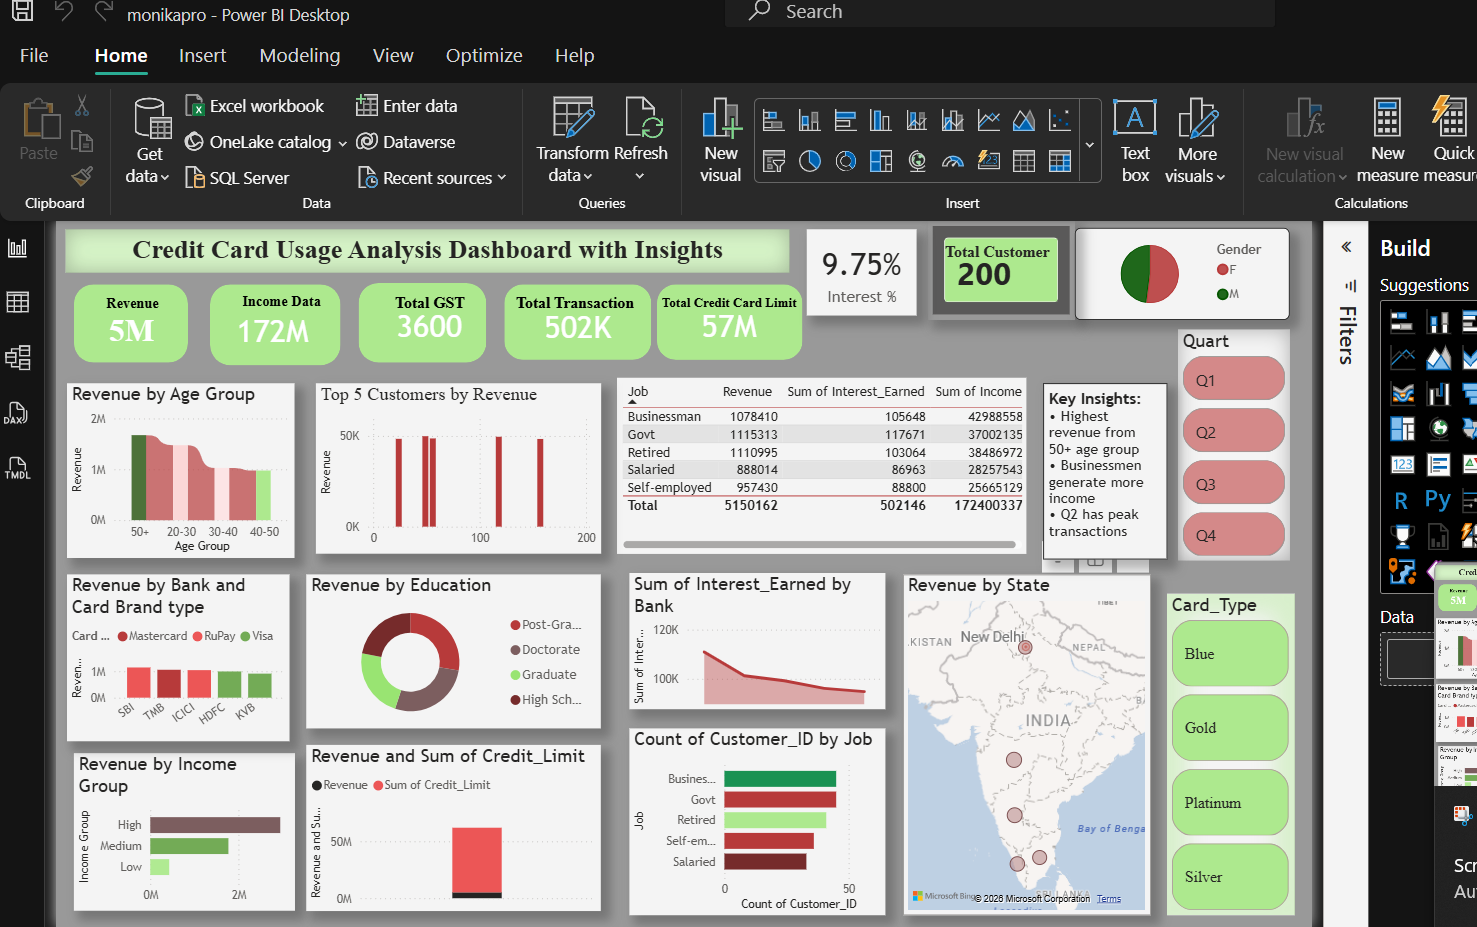

The dashboard page shown, as its layout file describes it:
{"tool":"powerbi","page":{"name":"Page 1","canvas":[1280,720],"ordinal":0},"visuals":[{"type":"shape","box":[18.2,64.5,116.4,79.9],"z":0},{"type":"shape","box":[612.7,64.5,148.6,77.1],"z":1000},{"type":"pieChart","fields":{"Category":["CreditCardData.Gender"],"Y":["CountNonNull(CreditCardData.Customer_ID)"]},"box":[1039.4,6.8,218.8,94],"z":2000},{"type":"shape","box":[308.5,63.1,130.4,81.3],"z":3000},{"type":"shape","box":[457.1,64.5,150,77.1],"z":4000},{"type":"shape","box":[157,64.5,133.2,82.7],"z":5000},{"type":"card","fields":{"Values":["CreditCardData.Revenue"]},"box":[33.6,84.1,86.9,53.3],"z":6000},{"type":"card","fields":{"Values":["CreditCardData.Total Interest"]},"box":[464.1,74.3,136,65.9],"z":7000},{"type":"card","fields":{"Values":["CreditCardData.Income Data"]},"box":[165.4,88.3,110.8,46.3],"z":8000},{"type":"textbox","box":[10.3,8.5,738.5,44.4],"z":9000},{"type":"textbox","box":[46.3,70.1,109.4,44.9],"z":10000},{"type":"textbox","box":[185.1,68.7,105.2,30.8],"z":11000},{"type":"textbox","box":[340.7,68.7,98.1,43.5],"z":12000},{"type":"textbox","box":[464.1,68.7,148.6,39.3],"z":13000},{"type":"ribbonChart","fields":{"Category":["CreditCardData.Age Group"],"Y":["CreditCardData.Revenue"]},"box":[11.7,165,231.7,178.3],"z":14000},{"type":"clusteredBarChart","fields":{"Category":["CreditCardData.Income Group"],"Y":["CreditCardData.Revenue"]},"box":[18.8,541.9,225.7,160.7],"z":15000},{"type":"tableEx","fields":{"Values":["CreditCardData.Job","CreditCardData.Revenue","Sum(CreditCardData.Interest_Earned)","Sum(CreditCardData.Income)"]},"box":[572,159.8,417.8,179.5],"z":16000},{"type":"columnChart","fields":{"Category":["CreditCardData.Bank"],"Y":["CreditCardData.Revenue"],"Series":["CreditCardData.Card Brand type"]},"box":[11.7,360,226.7,170],"z":17000},{"type":"donutChart","fields":{"Category":["CreditCardData.Education"],"Y":["CreditCardData.Revenue"]},"box":[255.2,360.3,300,157],"z":18000},{"type":"map","title":"Revenue by State","fields":{"Category":["CreditCardData.State"],"Size":["CreditCardData.Revenue"]},"box":[863.7,360.3,252.4,347.7],"z":19000},{"type":"columnChart","fields":{"Y":["CreditCardData.Revenue","Sum(CreditCardData.Credit_Limit)"]},"box":[255.2,534.2,300,169.6],"z":20000},{"type":"advancedSlicerVisual","title":"Quart","fields":{"Values":["CreditCardData.Quarter"]},"box":[1143.7,111.1,114.5,235.9],"z":21000},{"type":"advancedSlicerVisual","fields":{"Values":["CreditCardData.Card_Type"]},"box":[1133.5,379.5,129.9,328.2],"z":22000},{"type":"cardVisual","fields":{"Data":["CountNonNull(CreditCardData.Customer_ID)"]},"box":[888.9,0,150,100.9],"z":23000},{"type":"textbox","box":[901,17.1,124.8,44.4],"z":24000},{"type":"card","fields":{"Values":["Sum(CreditCardData.GST)"]},"box":[337.9,75.7,85.5,61.7],"z":25000},{"type":"clusteredBarChart","fields":{"Y":["CountNonNull(CreditCardData.Customer_ID)"],"Category":["CreditCardData.Job"]},"box":[584.7,517.4,260.8,190.7],"z":26000},{"type":"areaChart","fields":{"Category":["CreditCardData.Bank"],"Y":["Sum(CreditCardData.Interest_Earned)"]},"box":[584.7,358.9,260.8,138.8],"z":27000},{"type":"card","fields":{"Values":["Sum(CreditCardData.Credit_Limit)"]},"box":[633.7,74.3,105.2,64.5],"z":28000},{"type":"textbox","box":[612.7,70.1,158.4,43.5],"z":29000},{"type":"columnChart","title":"Top 5 Customers by Revenue","fields":{"Category":["CreditCardData.Customer_ID"],"Y":["CreditCardData.Revenue"]},"box":[264.5,165.3,290.9,174.1],"z":30000},{"type":"textbox","box":[1006.7,165.4,126.2,179.5],"z":31000},{"type":"card","fields":{"Values":["CreditCardData.Interest %"]},"box":[765.5,8.4,112.2,88.3],"z":32000}]}

Visuals, with their boxes on the page's 1280x720 design canvas (x1, y1, x2, y2). These are canvas units, not pixel positions in the 1477x927 screenshot, which may show the page scaled, cropped or inside an application window:
shape: {"left": 18, "top": 64, "right": 135, "bottom": 144}
shape: {"left": 613, "top": 64, "right": 761, "bottom": 142}
pieChart - CreditCardData.Gender x CountNonNull(CreditCardData.Customer_ID): {"left": 1039, "top": 7, "right": 1258, "bottom": 101}
shape: {"left": 308, "top": 63, "right": 439, "bottom": 144}
shape: {"left": 457, "top": 64, "right": 607, "bottom": 142}
shape: {"left": 157, "top": 64, "right": 290, "bottom": 147}
card - CreditCardData.Revenue: {"left": 34, "top": 84, "right": 120, "bottom": 137}
card - CreditCardData.Total Interest: {"left": 464, "top": 74, "right": 600, "bottom": 140}
card - CreditCardData.Income Data: {"left": 165, "top": 88, "right": 276, "bottom": 135}
textbox: {"left": 10, "top": 8, "right": 749, "bottom": 53}
textbox: {"left": 46, "top": 70, "right": 156, "bottom": 115}
textbox: {"left": 185, "top": 69, "right": 290, "bottom": 100}
textbox: {"left": 341, "top": 69, "right": 439, "bottom": 112}
textbox: {"left": 464, "top": 69, "right": 613, "bottom": 108}
ribbonChart - CreditCardData.Age Group x CreditCardData.Revenue: {"left": 12, "top": 165, "right": 243, "bottom": 343}
clusteredBarChart - CreditCardData.Income Group x CreditCardData.Revenue: {"left": 19, "top": 542, "right": 244, "bottom": 703}
tableEx - CreditCardData.Job x CreditCardData.Revenue: {"left": 572, "top": 160, "right": 990, "bottom": 339}
columnChart - CreditCardData.Bank x CreditCardData.Revenue: {"left": 12, "top": 360, "right": 238, "bottom": 530}
donutChart - CreditCardData.Education x CreditCardData.Revenue: {"left": 255, "top": 360, "right": 555, "bottom": 517}
"Revenue by State" map: {"left": 864, "top": 360, "right": 1116, "bottom": 708}
columnChart - CreditCardData.Revenue x Sum(CreditCardData.Credit_Limit): {"left": 255, "top": 534, "right": 555, "bottom": 704}
"Quart" advancedSlicerVisual: {"left": 1144, "top": 111, "right": 1258, "bottom": 347}
advancedSlicerVisual - CreditCardData.Card_Type: {"left": 1134, "top": 380, "right": 1263, "bottom": 708}
cardVisual - CountNonNull(CreditCardData.Customer_ID): {"left": 889, "top": 0, "right": 1039, "bottom": 101}
textbox: {"left": 901, "top": 17, "right": 1026, "bottom": 62}
card - Sum(CreditCardData.GST): {"left": 338, "top": 76, "right": 423, "bottom": 137}
clusteredBarChart - CountNonNull(CreditCardData.Customer_ID) x CreditCardData.Job: {"left": 585, "top": 517, "right": 846, "bottom": 708}
areaChart - CreditCardData.Bank x Sum(CreditCardData.Interest_Earned): {"left": 585, "top": 359, "right": 846, "bottom": 498}
card - Sum(CreditCardData.Credit_Limit): {"left": 634, "top": 74, "right": 739, "bottom": 139}
textbox: {"left": 613, "top": 70, "right": 771, "bottom": 114}
"Top 5 Customers by Revenue" columnChart: {"left": 264, "top": 165, "right": 555, "bottom": 339}
textbox: {"left": 1007, "top": 165, "right": 1133, "bottom": 345}
card - CreditCardData.Interest %: {"left": 766, "top": 8, "right": 878, "bottom": 97}
